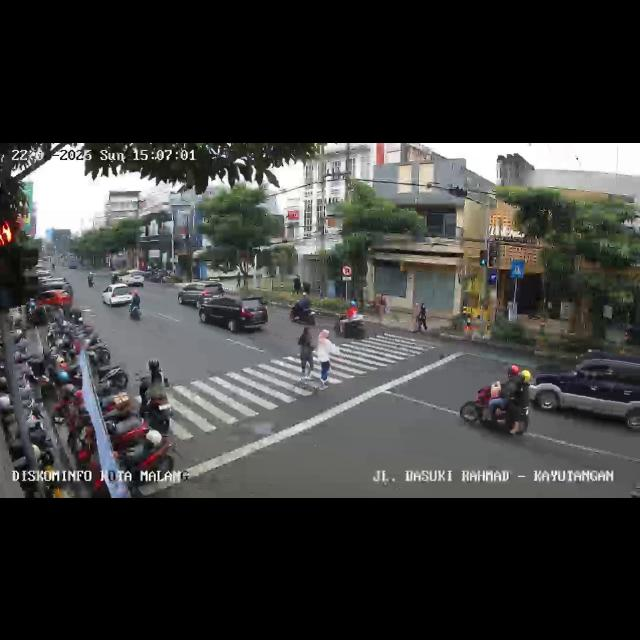car: (530, 348, 640, 434), (199, 292, 269, 334), (32, 274, 74, 314), (176, 280, 224, 308), (102, 281, 138, 309)
motorcycle: (470, 364, 536, 438), (332, 306, 366, 338), (290, 292, 316, 324), (128, 289, 144, 323), (414, 299, 428, 333)
person: (139, 357, 169, 418), (294, 324, 318, 386), (317, 329, 338, 389)
